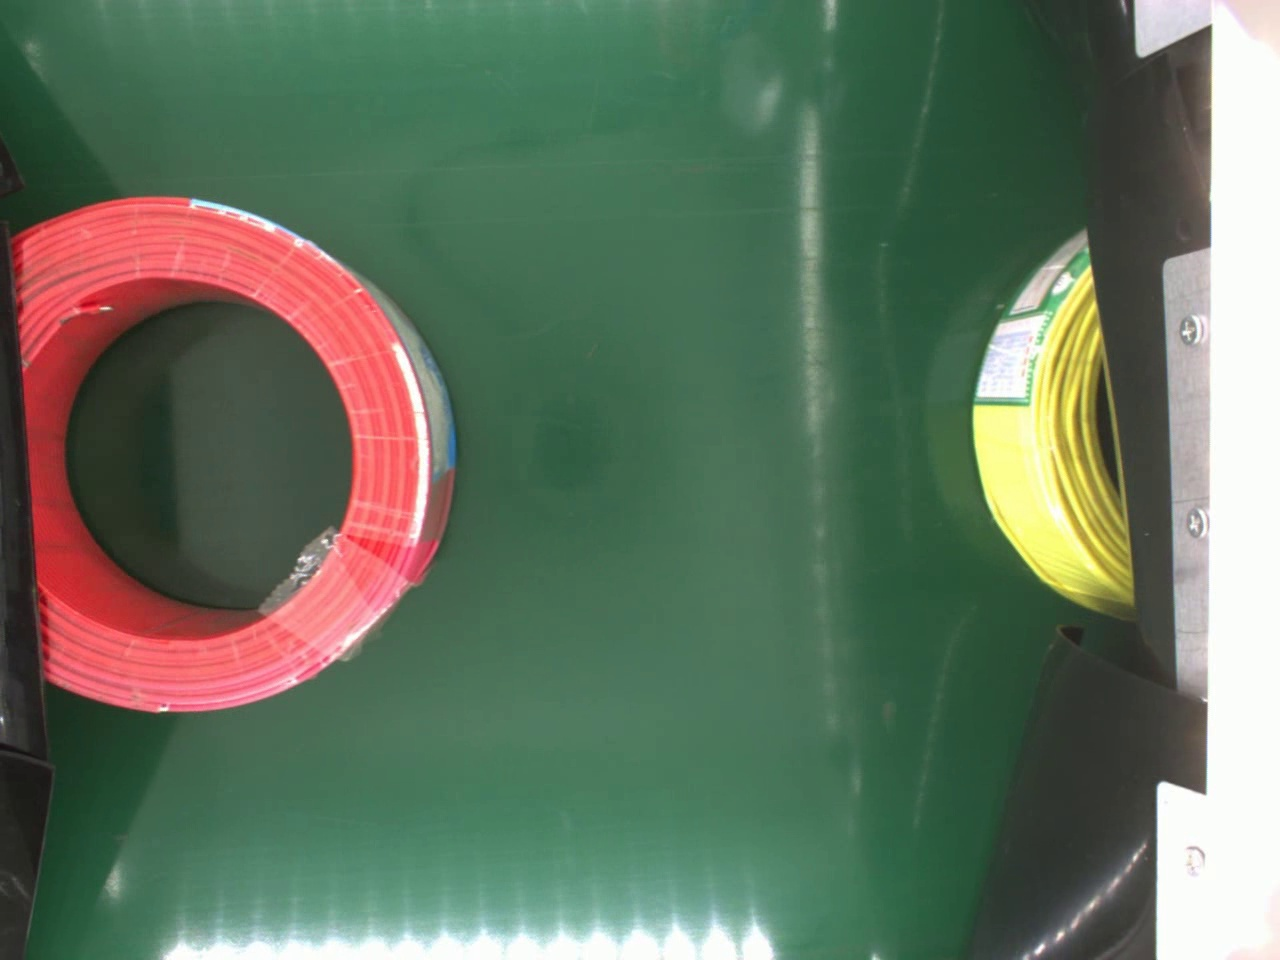red: (6, 196, 461, 720)
yellow: (969, 222, 1128, 613)
